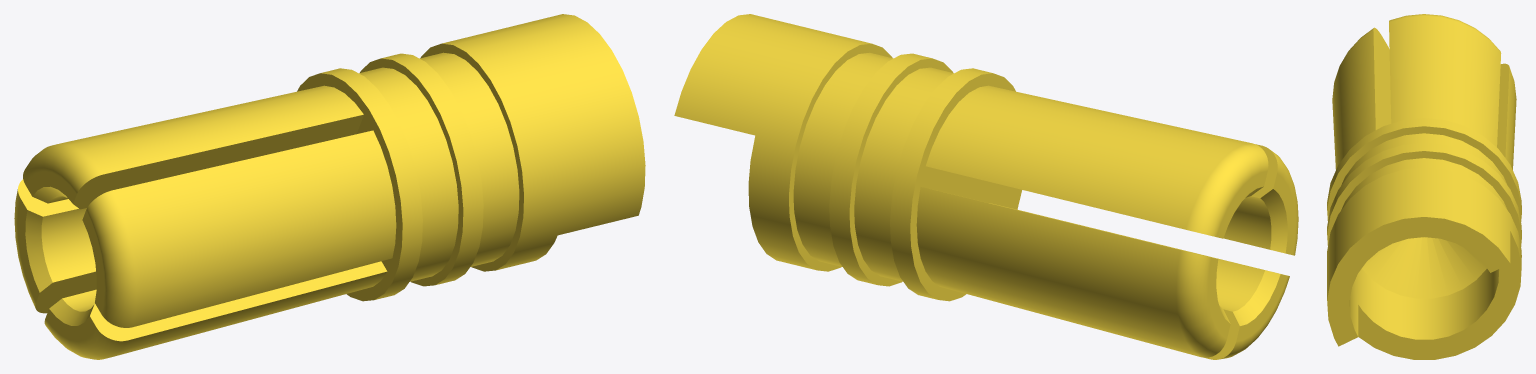
Rendered from REV_21_1652_P12__REV_21_1652_P12.gltf.
3 views of the same model, side by side, from view 1: azimuth 30°, elevation 25°; view 2: azimuth 150°, elevation 25°; view 3: azimuth 270°, elevation 25° (orthographic). The views are drawn at different scales.
Visible parts, largest first — view 1: mesh83837, mesh83820, mesh83830, mesh83826, mesh83822, mesh83833, mesh83824, mesh83828, mesh83838, mesh83853, mesh83851, mesh83850 (+13 smaller); view 2: mesh83830, mesh83844, mesh83820, mesh83826, mesh83822, mesh83828, mesh83824, mesh83829, mesh83831, mesh83845, mesh83857, mesh83825 (+12 smaller); view 3: mesh83830, mesh83820, mesh83815, mesh83816, mesh83814, mesh83819, mesh83837, mesh83823, mesh83827, mesh83828, mesh83824, mesh83840 (+5 smaller).
Part boxes in pixels (x1,y1,x2,y2): mesh83837: [112, 130, 396, 326]; mesh83820: [442, 14, 645, 270]; mesh83830: [61, 85, 363, 174]; mesh83826: [359, 67, 458, 281]; mesh83822: [420, 52, 519, 266]; mesh83833: [73, 114, 363, 209]; mesh83824: [381, 53, 483, 284]; mesh83828: [320, 68, 422, 299]; mesh83838: [86, 190, 136, 327]; mesh83853: [90, 261, 387, 341]; mesh83851: [113, 271, 386, 356]; mesh83850: [41, 208, 95, 282]; mesh83830: [926, 85, 1251, 229]; mesh83844: [916, 187, 1199, 356]; mesh83820: [674, 14, 870, 270]; mesh83826: [854, 67, 953, 281]; mesh83822: [793, 52, 893, 266]; mesh83828: [890, 68, 992, 299]; mesh83824: [829, 53, 931, 284]; mesh83829: [910, 73, 1021, 301]; mesh83831: [1185, 143, 1268, 236]; mesh83845: [1176, 250, 1226, 357]; mesh83857: [989, 203, 1264, 311]; mesh83825: [849, 58, 953, 286]; mesh83830: [1389, 16, 1500, 147]; mesh83820: [1327, 167, 1521, 299]; mesh83815: [1349, 268, 1499, 339]; mesh83816: [1327, 217, 1509, 346]; mesh83814: [1362, 237, 1486, 298]; mesh83819: [1358, 231, 1521, 359]; mesh83837: [1332, 30, 1375, 169]; mesh83823: [1327, 151, 1521, 246]; mesh83827: [1327, 126, 1521, 221]; mesh83828: [1327, 118, 1521, 213]; mesh83824: [1327, 142, 1521, 237]; mesh83840: [1373, 27, 1391, 129].
Size of the model in its own units: 0.013 by 0.00499 by 0.005.
